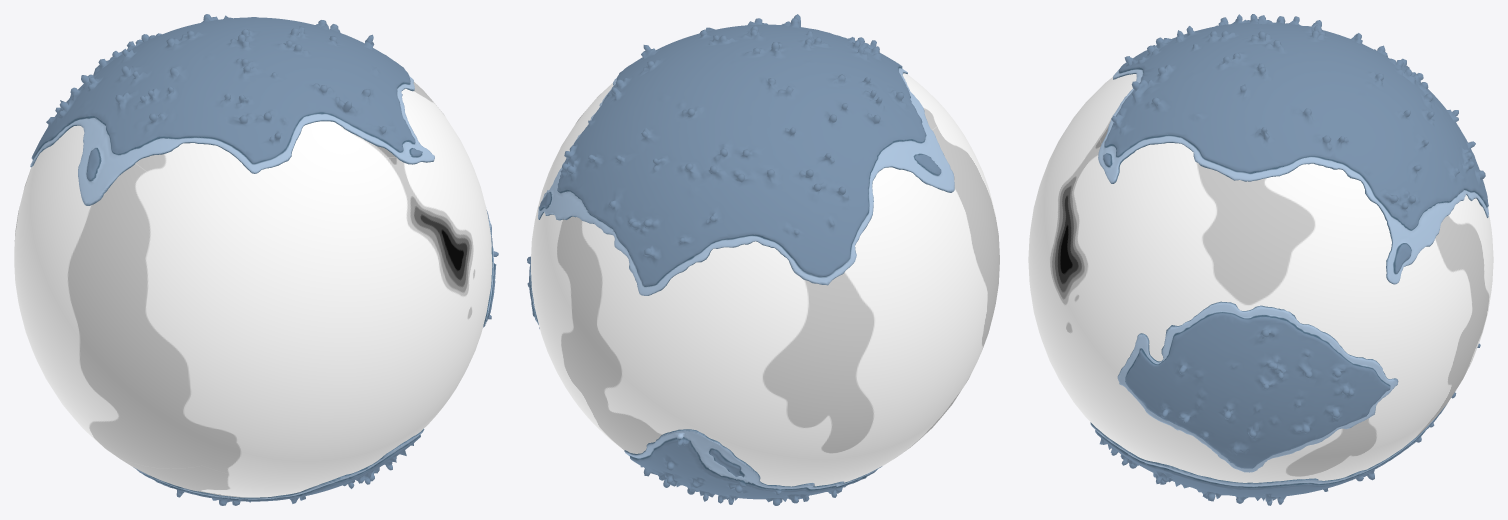
Rendered from earth.glb.
3 renders of one model, left to right at view 1: azimuth 30°, elevation 25°; view 2: azimuth 150°, elevation 25°; view 3: azimuth 270°, elevation 25°, orthographic.
Parts seen in each view (by area): view 1: cubeSea, LandsRemeshed; view 2: cubeSea, LandsRemeshed; view 3: cubeSea, LandsRemeshed.
Boxes of the visible parts, x1,y1,x2,y2 form: cubeSea: (14,82,492,497); LandsRemeshed: (30,14,498,505); cubeSea: (531,73,999,486); LandsRemeshed: (527,14,954,505); cubeSea: (1028,74,1493,482); LandsRemeshed: (1090,14,1488,505).
Bounding box in the file's own units: 1.74 × 1.78 × 1.69.
2 materials, 2 textured.
